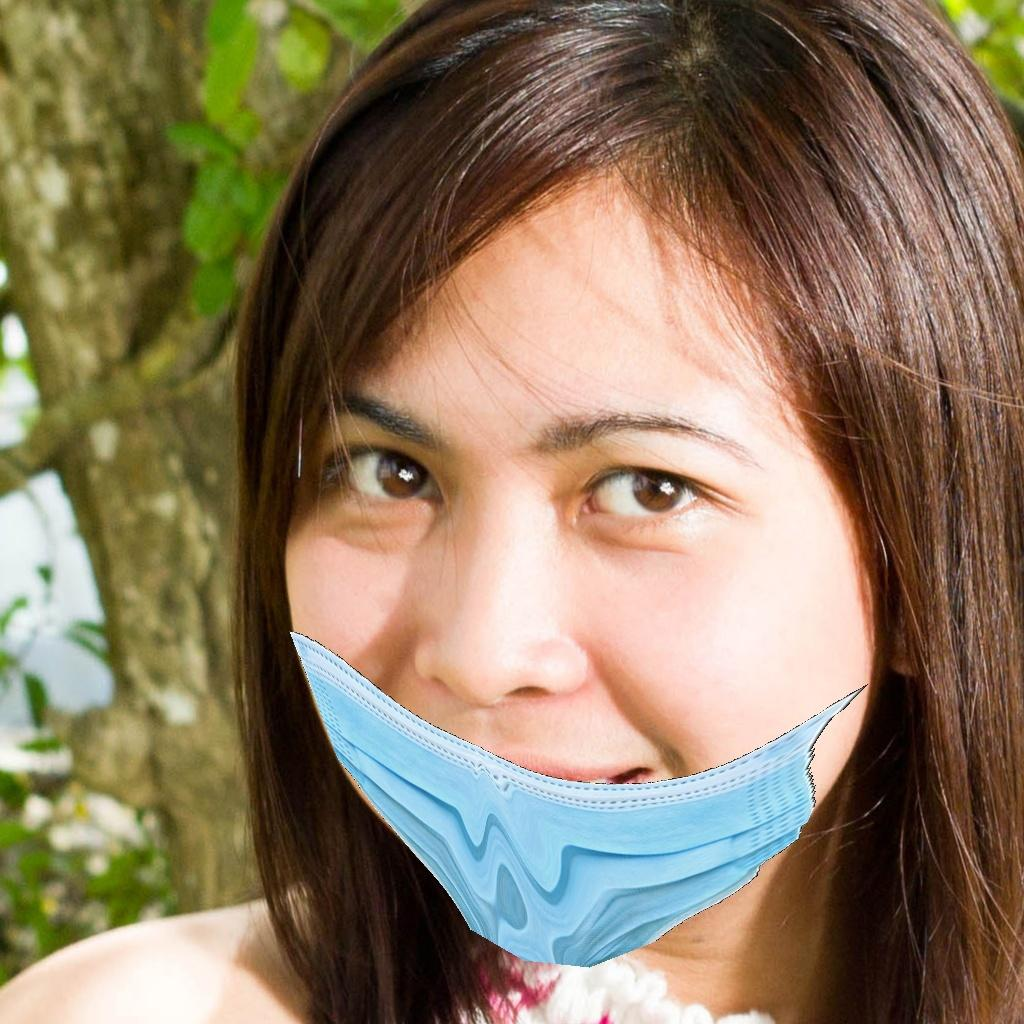Máscara Incorreta: (283, 303, 861, 934)
